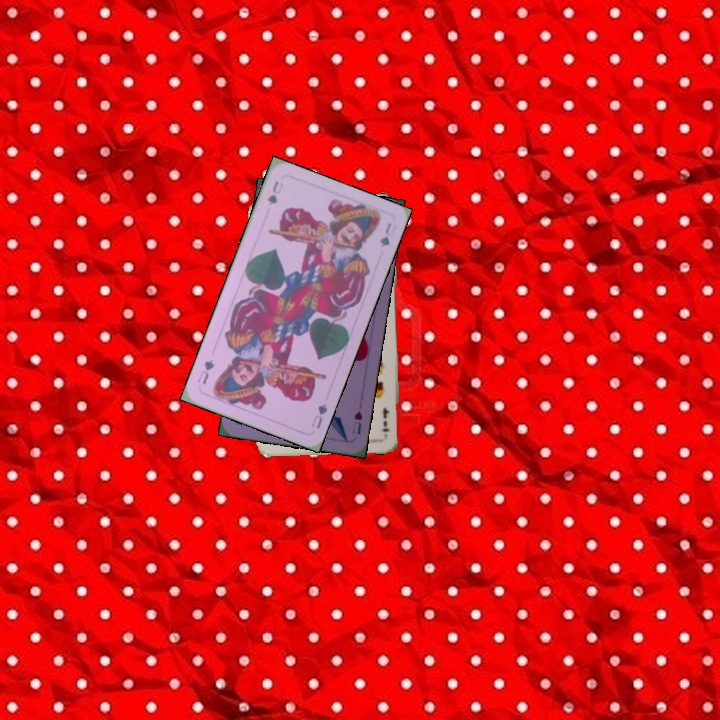E7: (379, 404, 393, 434)
GU: (307, 399, 330, 431), (263, 177, 286, 208)
HU: (348, 407, 365, 437)
